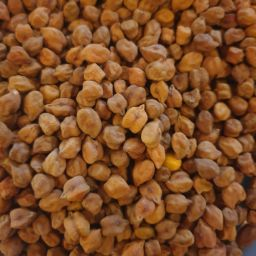Black Chickpeas: (2, 2, 256, 256), (13, 8, 247, 150)
